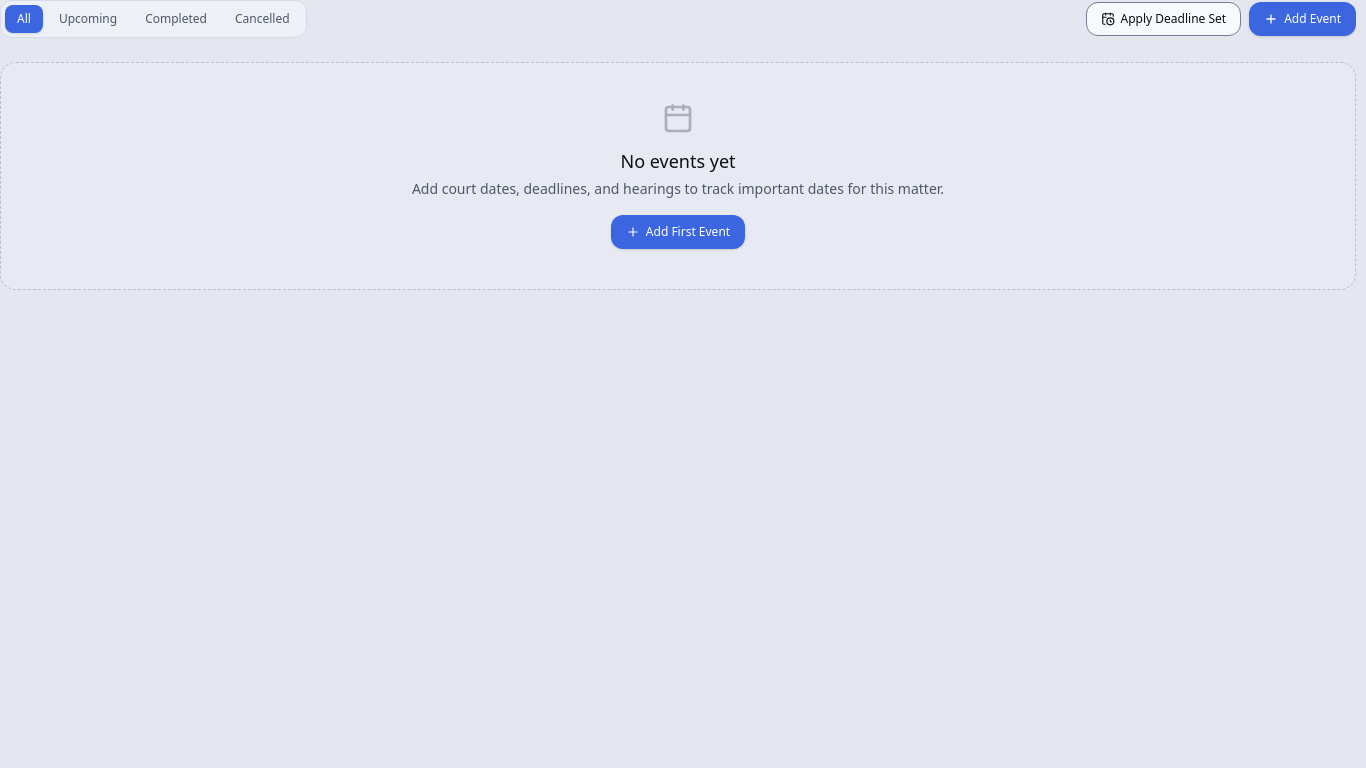
Scenario: adding an event › withholds save until the event has both a title and a date
Expected: the text "No events yet" is shown, x1=620 y1=149 x2=736 y2=173
Click the button "Add Event" at [1303, 19], box x1=1249 y1=2 x2=1356 y2=36
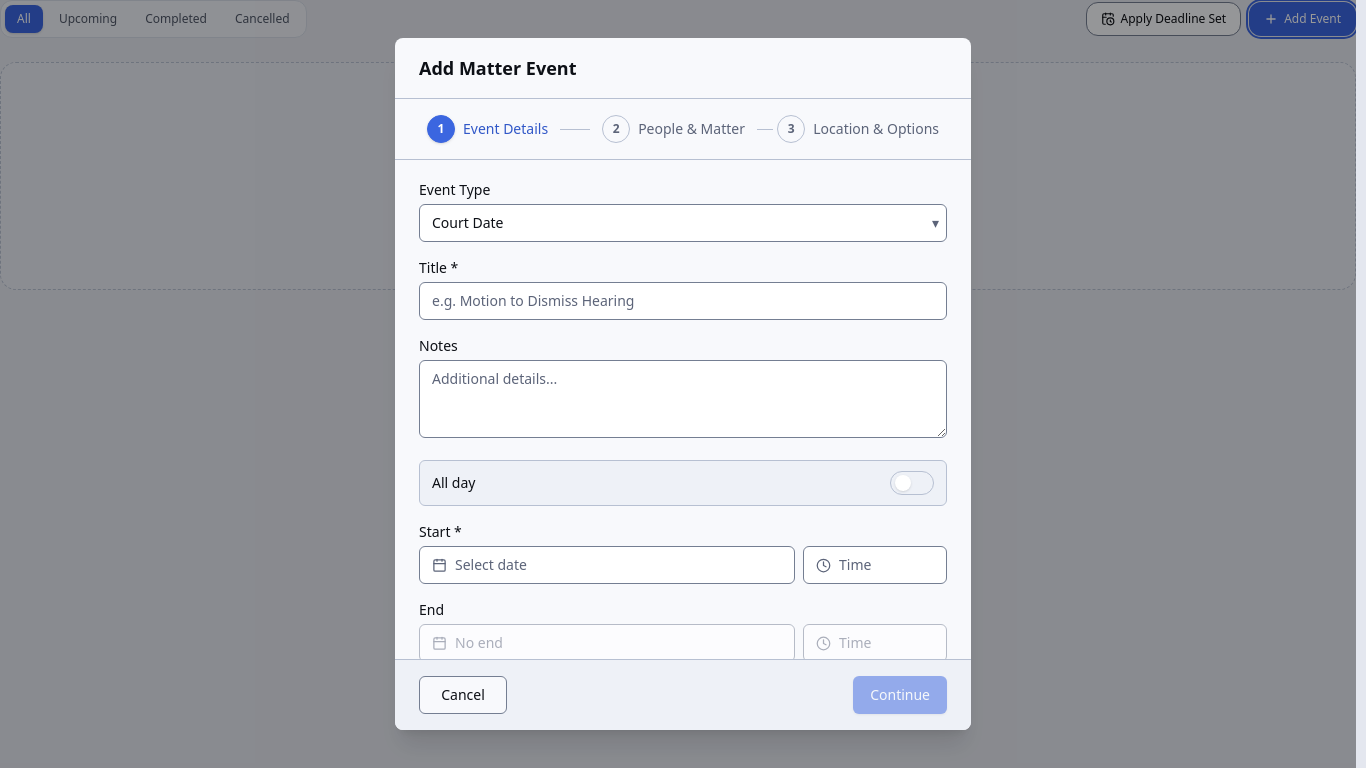
Expected: the button "Continue" is disabled, x1=853 y1=676 x2=947 y2=714
Type "Status conference" into the field with placeholder "e.g. Motion to Dismiss Hearing" at [683, 301], box x1=419 y1=282 x2=947 y2=320
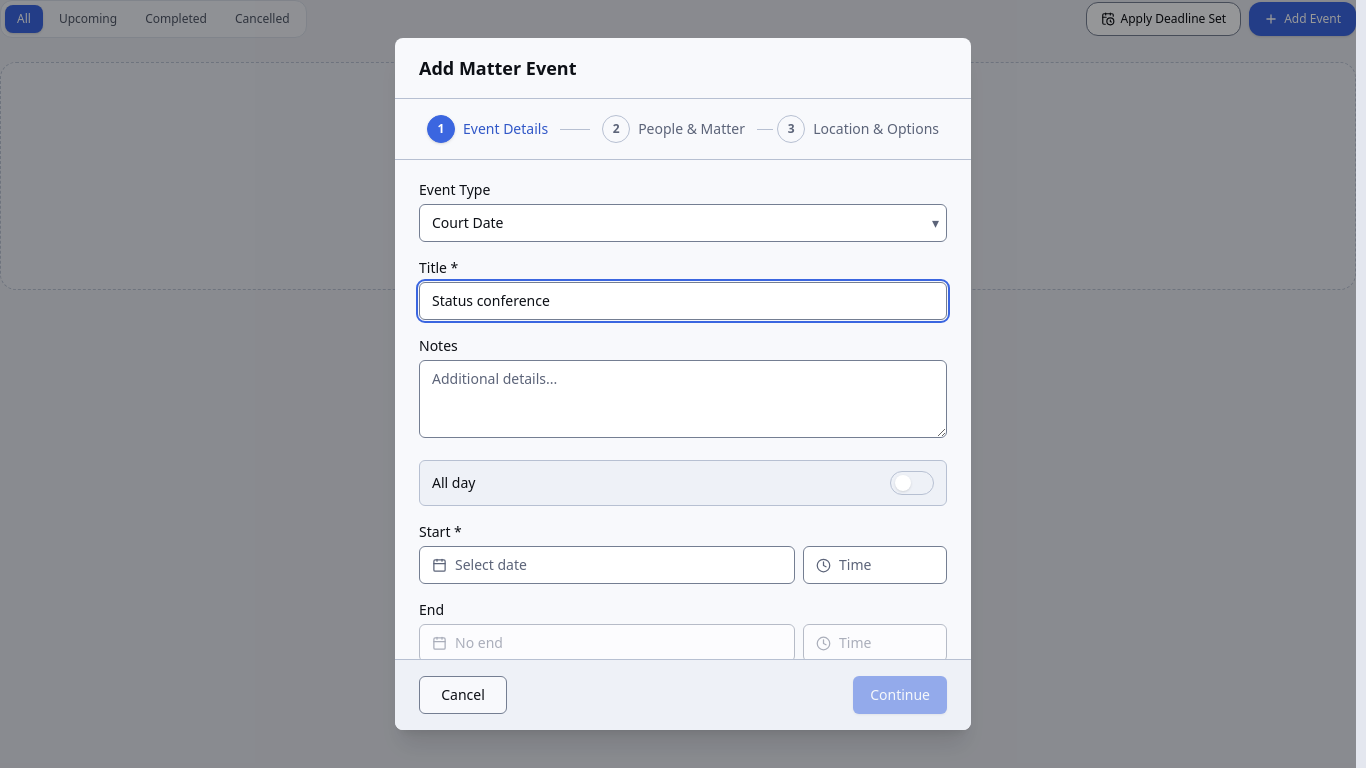
Expected: the button "Continue" is disabled, x1=853 y1=676 x2=947 y2=714
Click the switch named "All day" at [912, 483], box x1=890 y1=471 x2=934 y2=495
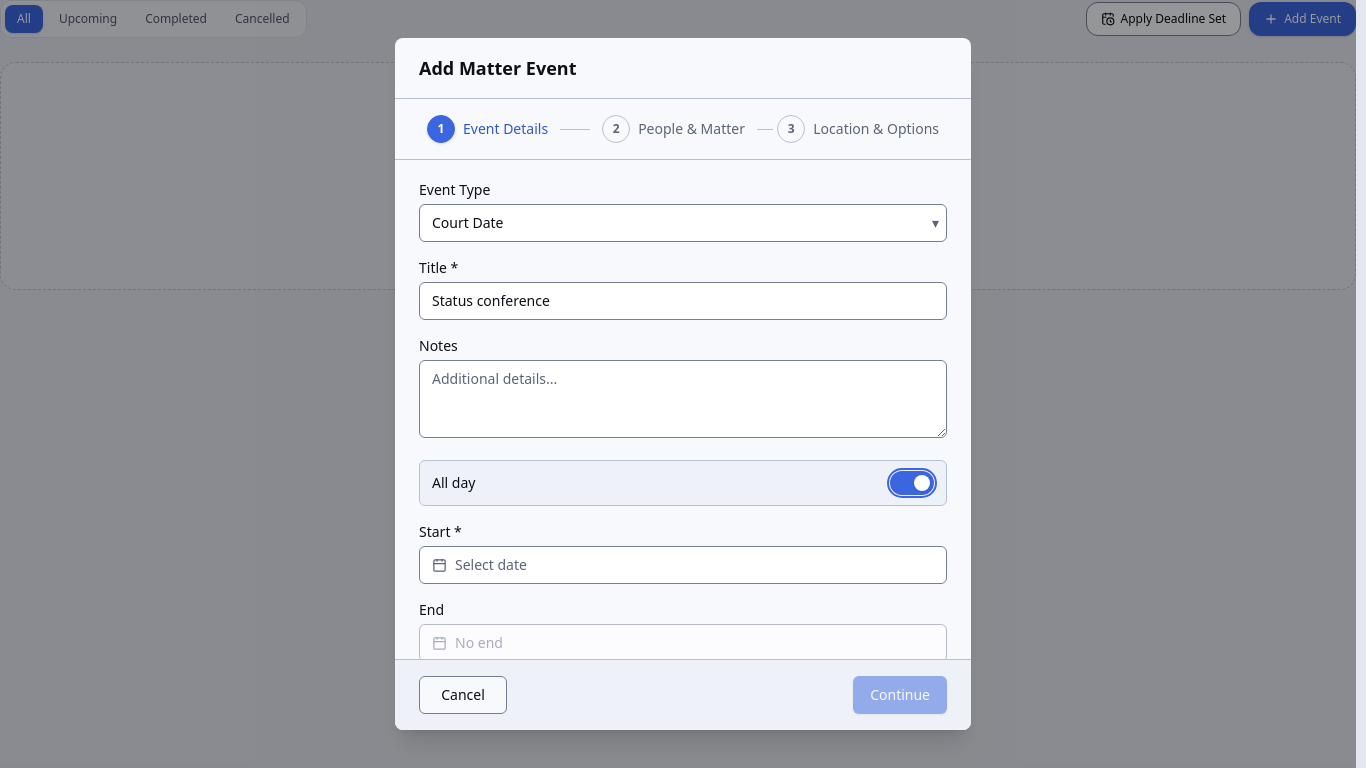
Click the button "Select date" at [491, 565], box x1=419 y1=546 x2=947 y2=584
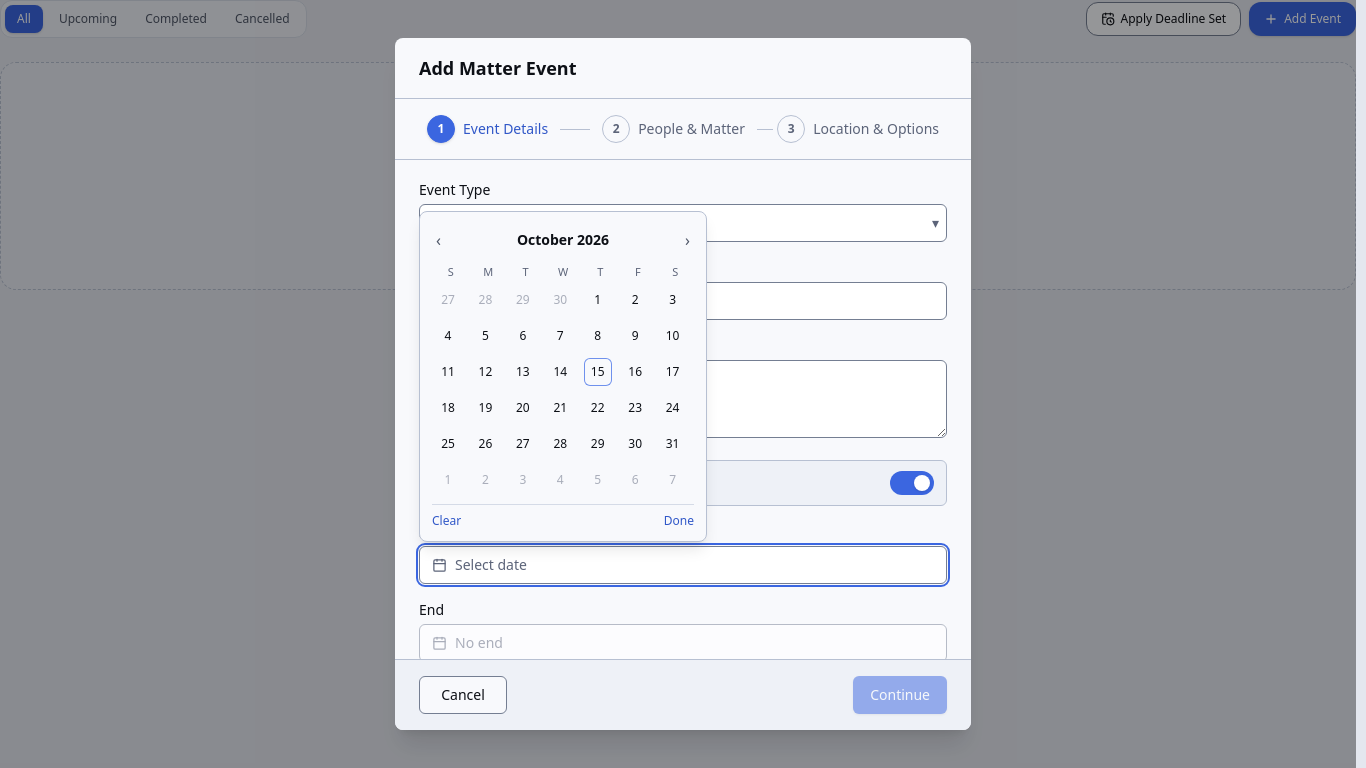
Click the button "15" at [598, 372], box x1=584 y1=358 x2=612 y2=386
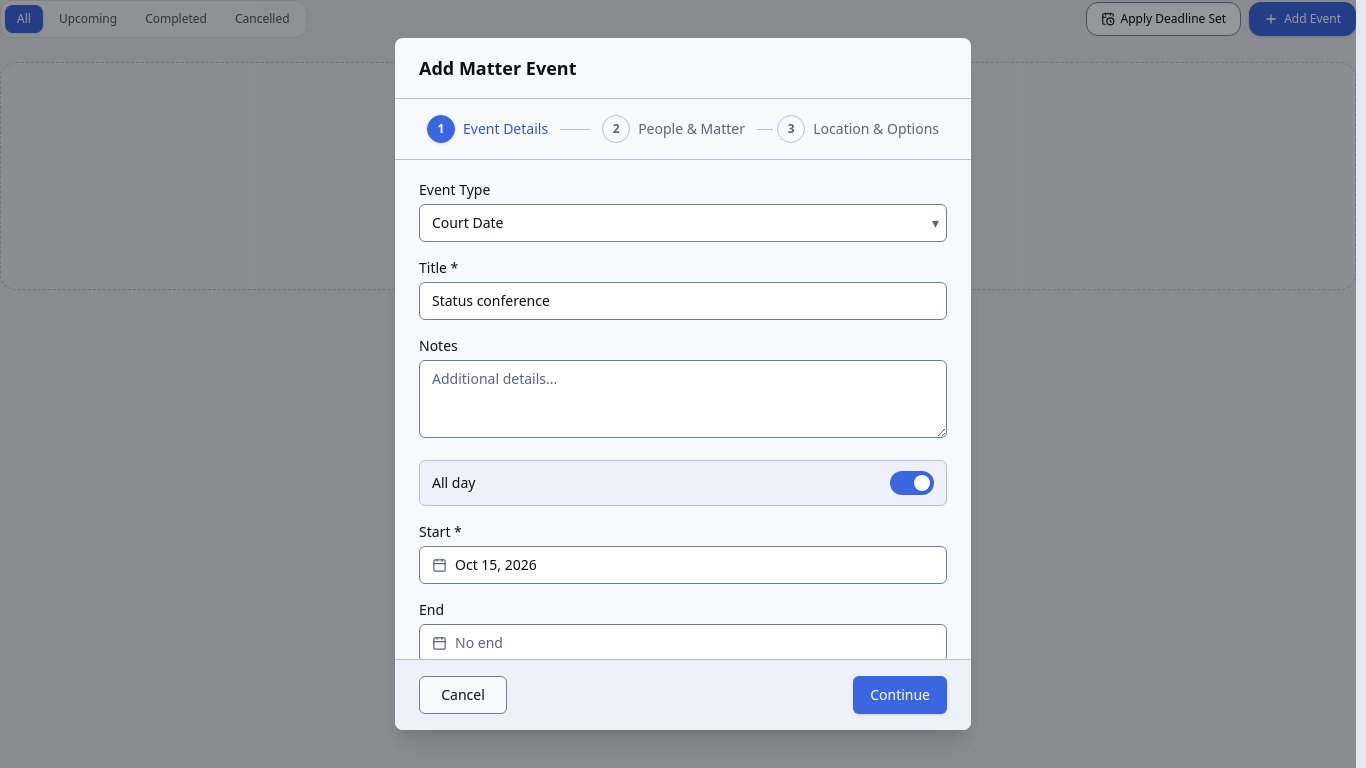
Expected: the button "Continue" is enabled, x1=853 y1=676 x2=947 y2=714
